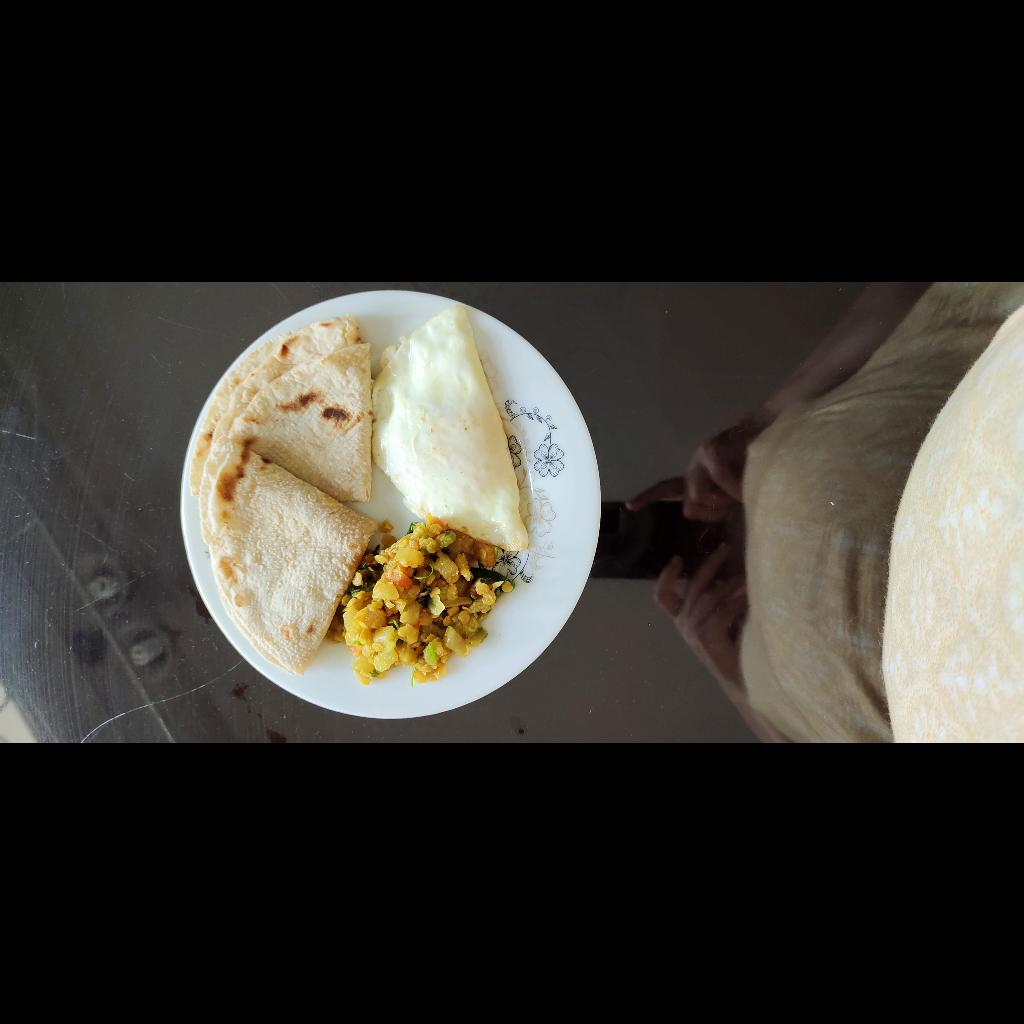egg-poached: (190, 651, 442, 809)
ruti: (62, 463, 429, 658)
vegetable: (57, 619, 225, 800)
